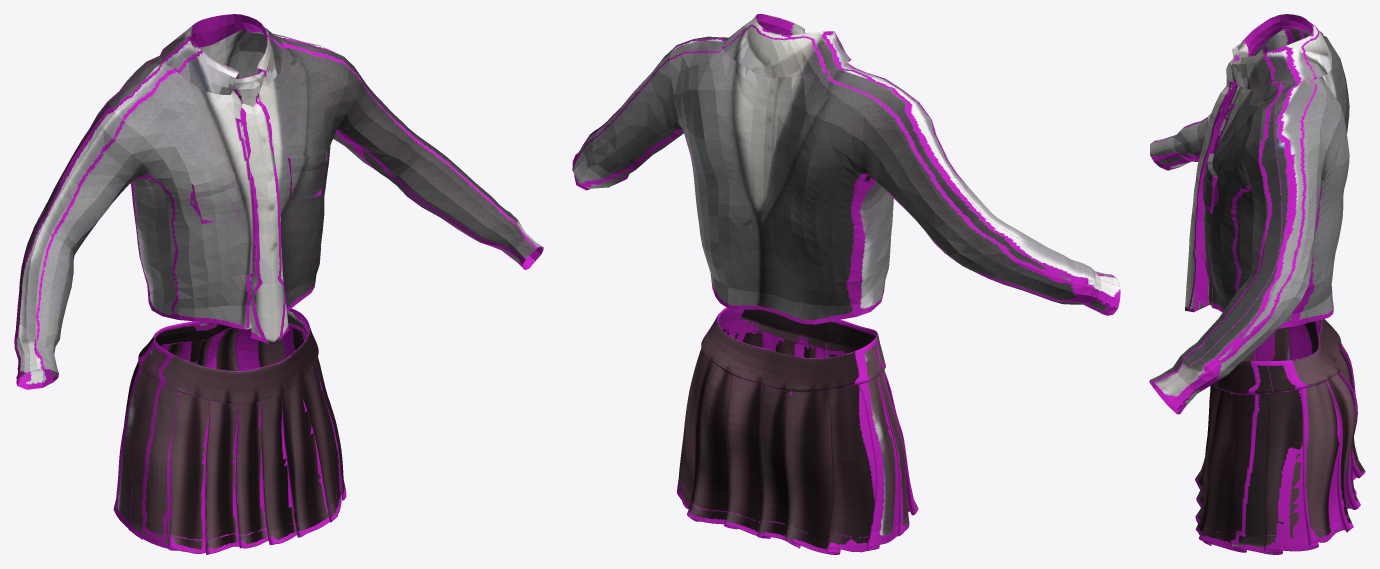
3 renders of one model, left to right at view 1: azimuth 30°, elevation 25°; view 2: azimuth 150°, elevation 25°; view 3: azimuth 270°, elevation 25°, orthographic. The views are drawn at different scales.
Size of the model in its own units: 0.9081 by 0.8096 by 0.3236.
1 material, 1 textured.
